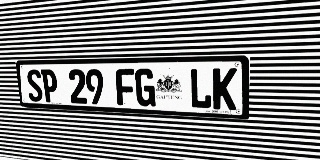2: (68, 69, 87, 104)
9: (85, 69, 105, 104)
F: (115, 69, 136, 106)
G: (135, 69, 156, 107)
K: (213, 68, 237, 110)
L: (189, 68, 212, 109)
P: (41, 69, 59, 103)
S: (26, 69, 43, 102)
